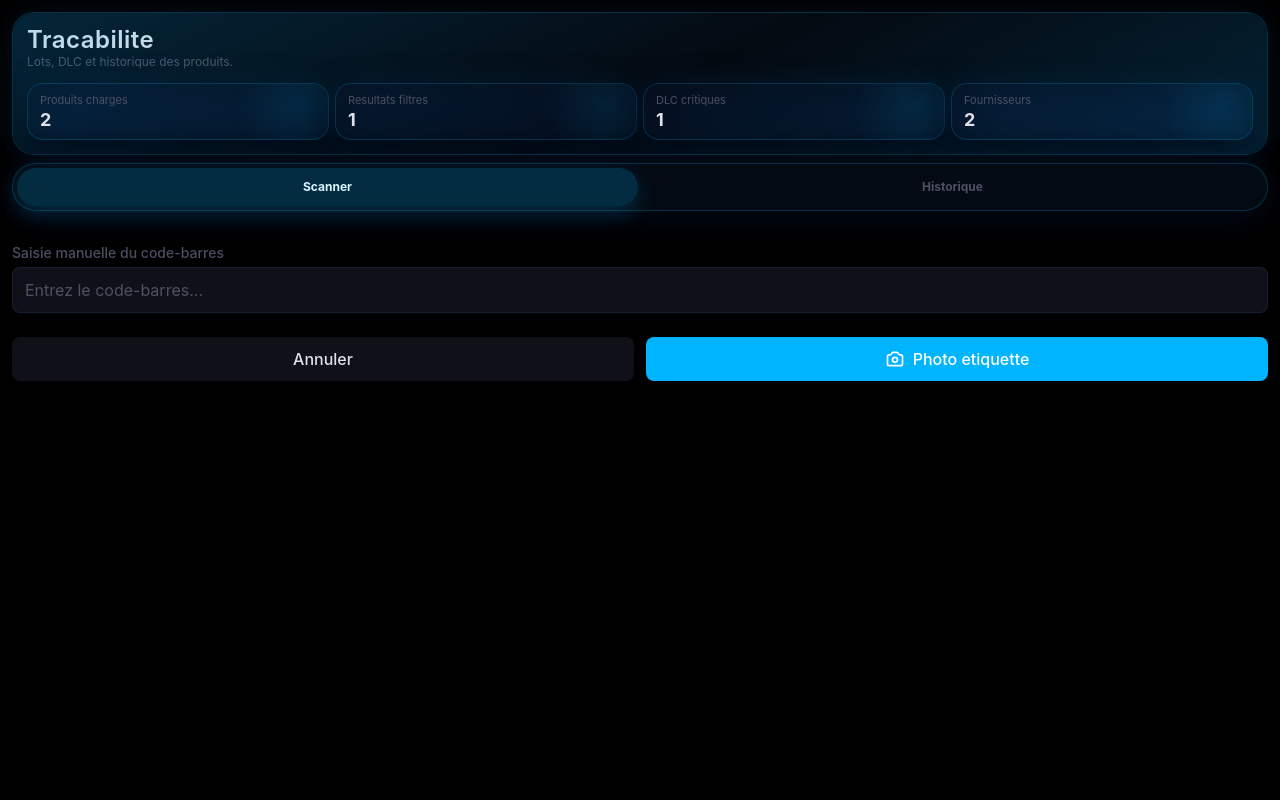
it: Traceability page › hides used products by default and shows them when history toggle is enabled
Click the button "Historique". click: {"x": 952, "y": 187}
box: [642,168,1263,206]
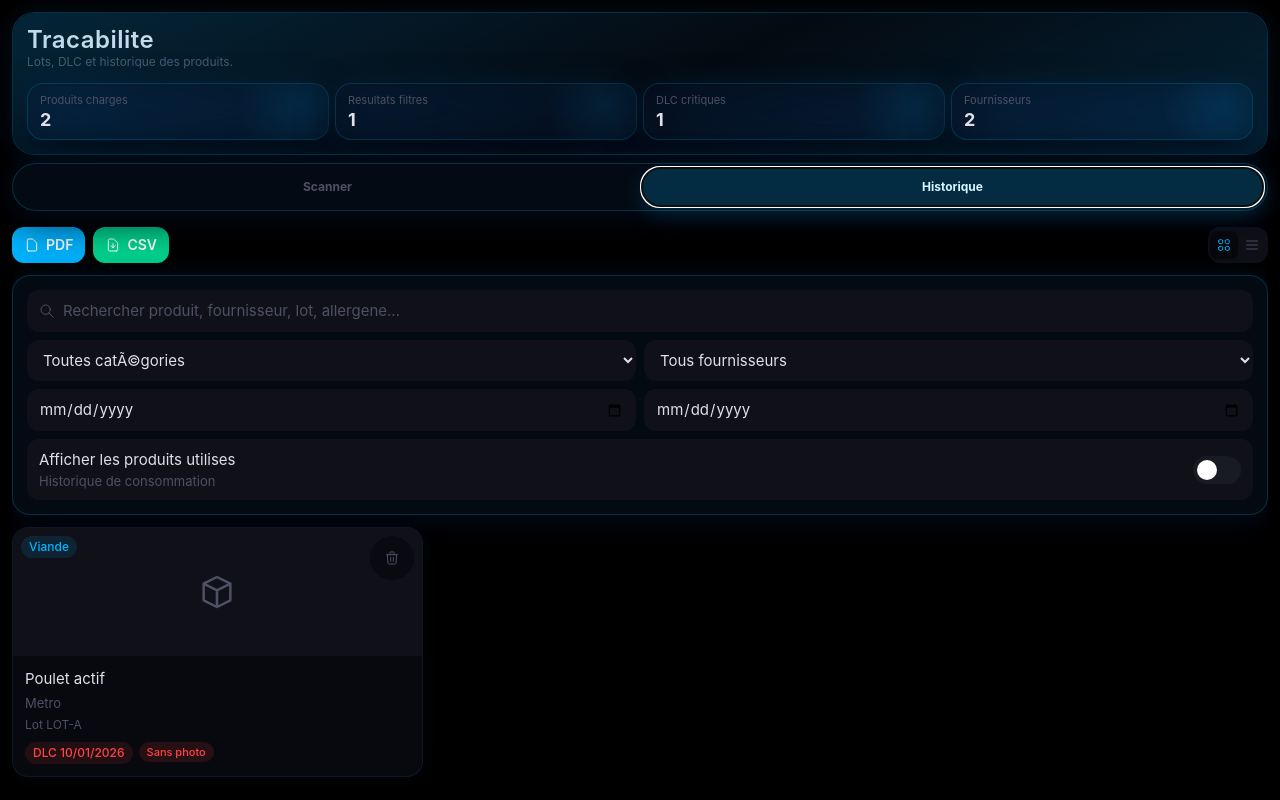
Click the button named "vue liste". click: {"x": 1252, "y": 245}
box: [1238,231,1266,259]
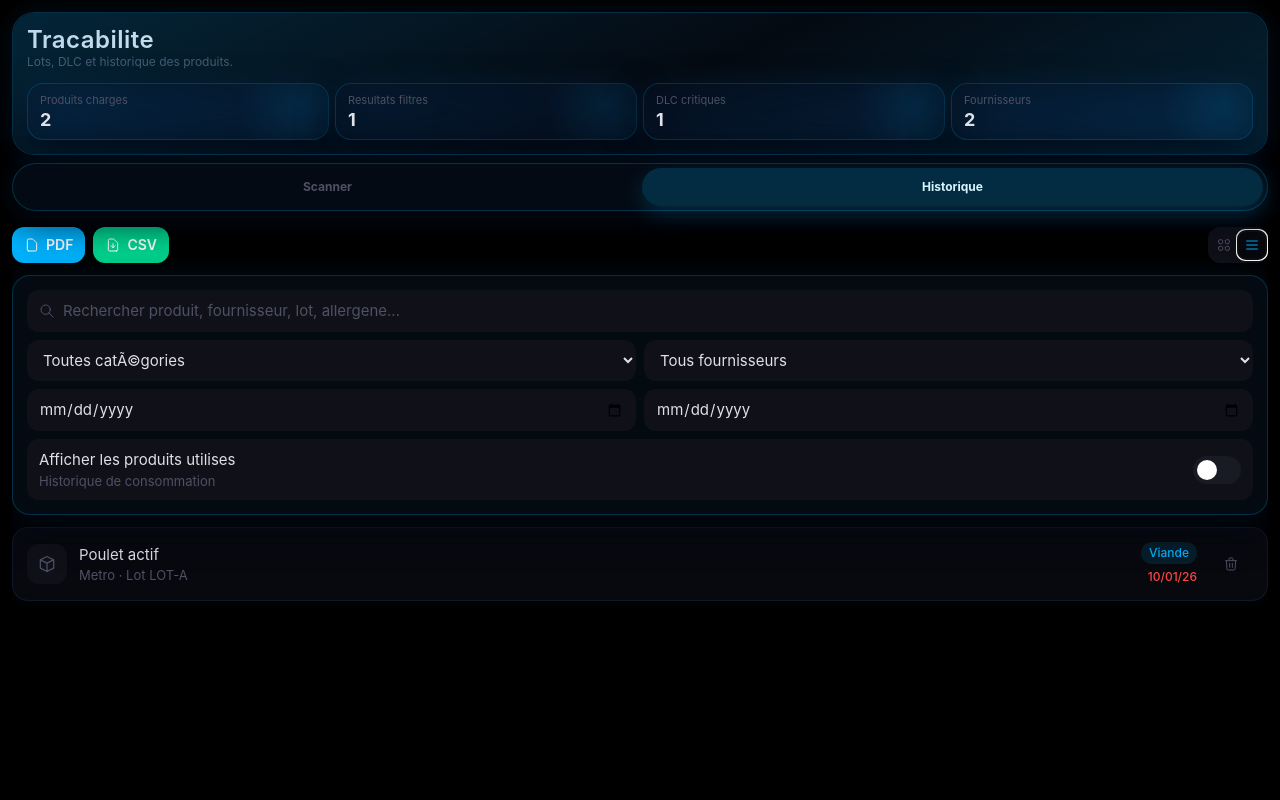
Expected: the text "Poisson utilise" is not shown
Expected: the heading "Poulet actif" is shown, [79,545,159,564]
Click the button named "afficher les produits utilises". click: {"x": 1217, "y": 470}
box: [1193,456,1241,484]
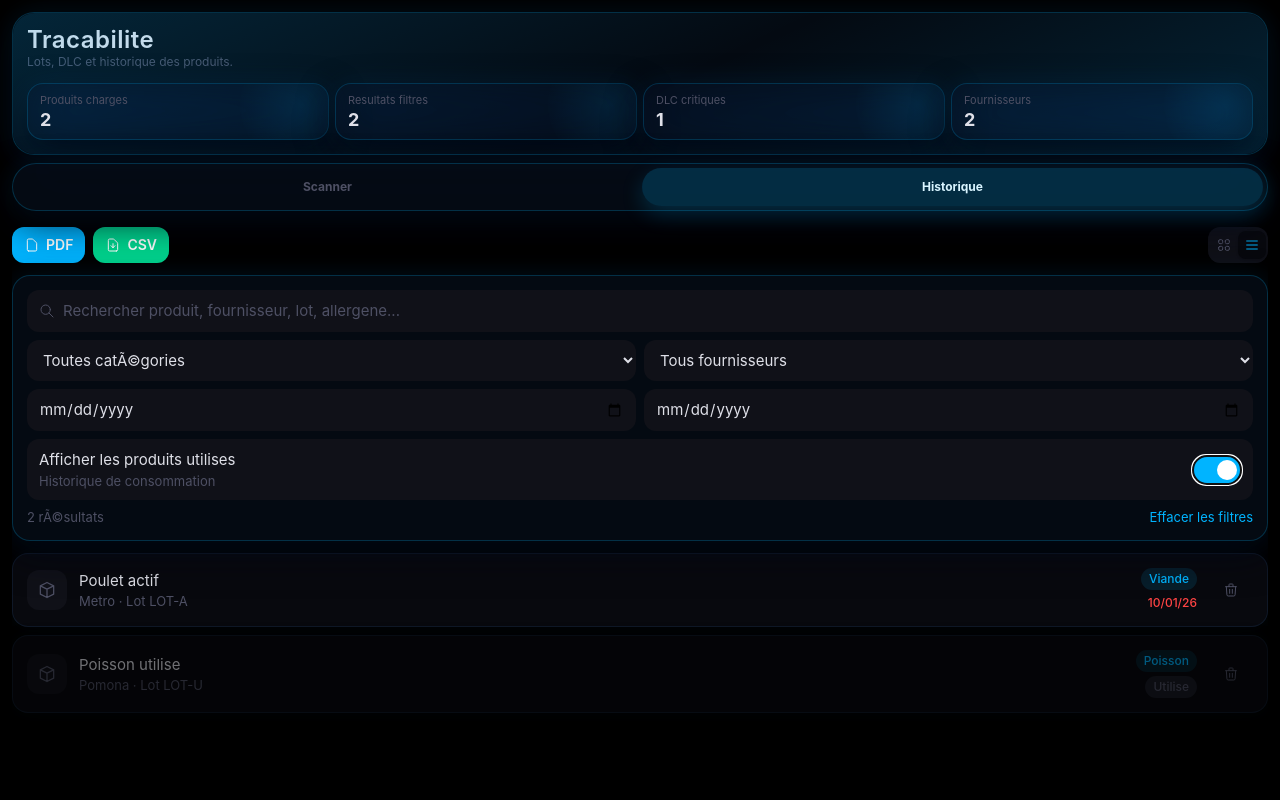
Expected: the heading "Poisson utilise" is shown, [79,655,180,674]
